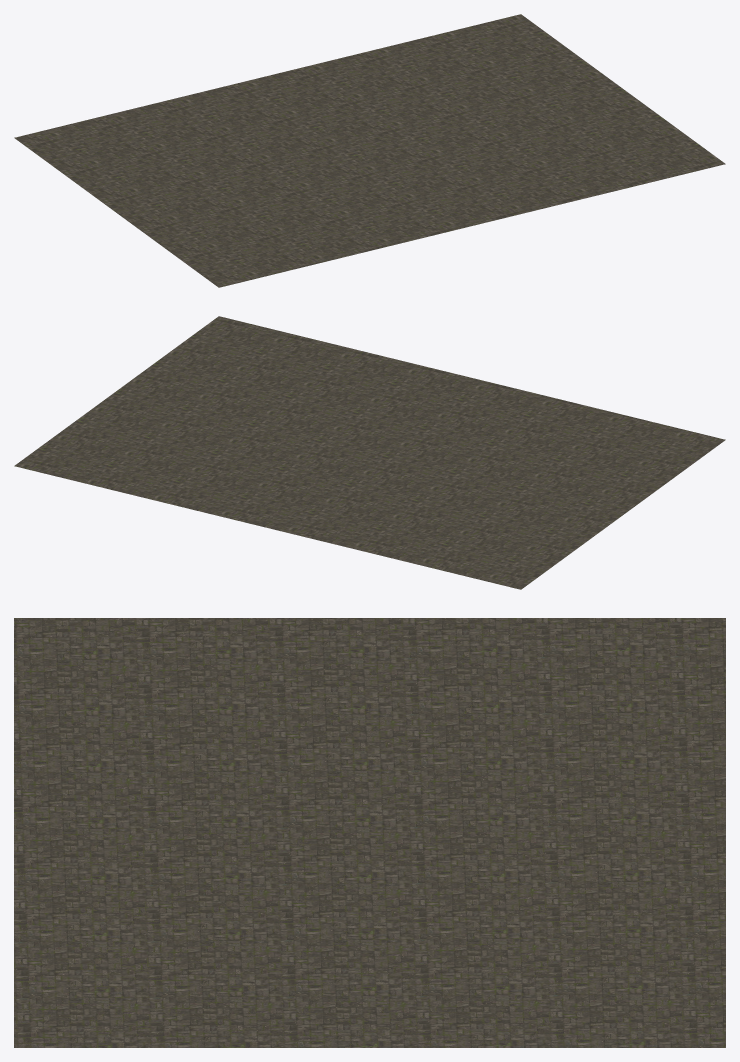
File: tutorialHouse_outerFloor.FBX
3 views of the same model, one above another, from view 1: azimuth 30°, elevation 25°; view 2: azimuth 150°, elevation 25°; view 3: azimuth 270°, elevation 25° (orthographic). The views are drawn at different scales.
Visible parts, largest first — view 1: outerFloor; view 2: outerFloor; view 3: outerFloor.
Boxes of the visible parts, left/top/right/bottom form: outerFloor: left=14, top=14, right=725, bottom=287; outerFloor: left=14, top=316, right=725, bottom=589; outerFloor: left=14, top=618, right=725, bottom=1047.
Size of the model in its own units: 21 by 9e-16 by 14.7.
Materials: 1 (1 with a texture image).
